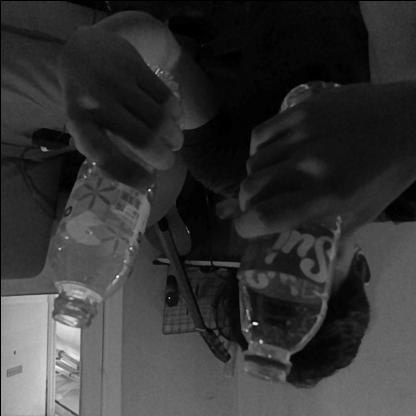plastic_bottles: (237, 84, 358, 380), (46, 84, 183, 328)
